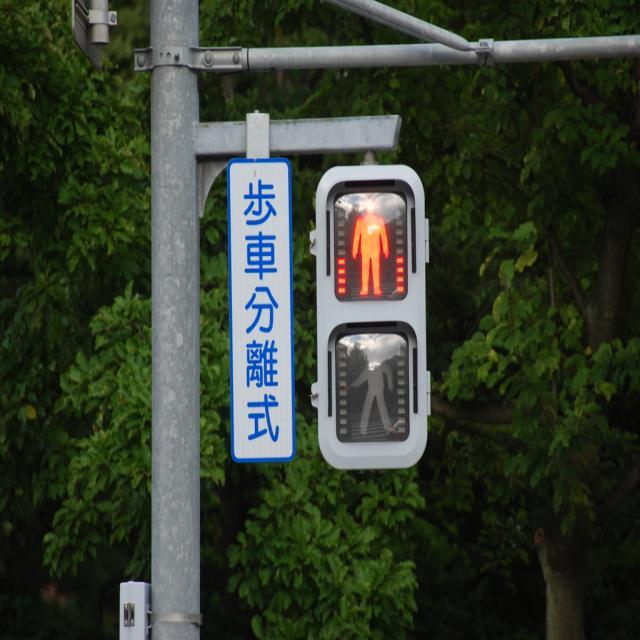traffic light: (316, 167, 428, 466)
